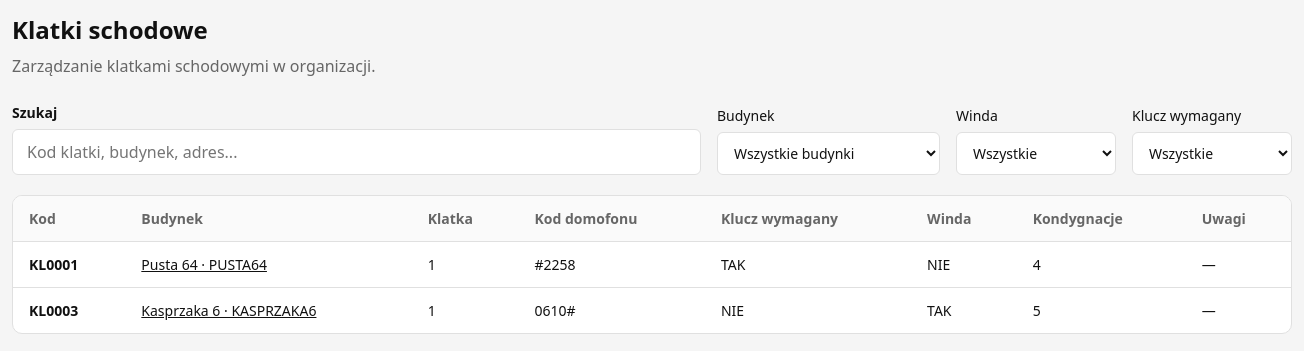
StaircasesPage › filters by building
expect the text "KL0001" is shown: met, box [13,242,125,288]
Select "Pusta 64 (PUSTA64)" in the dropdown named "Filtr budynku": (828, 154) [717,132,940,175]
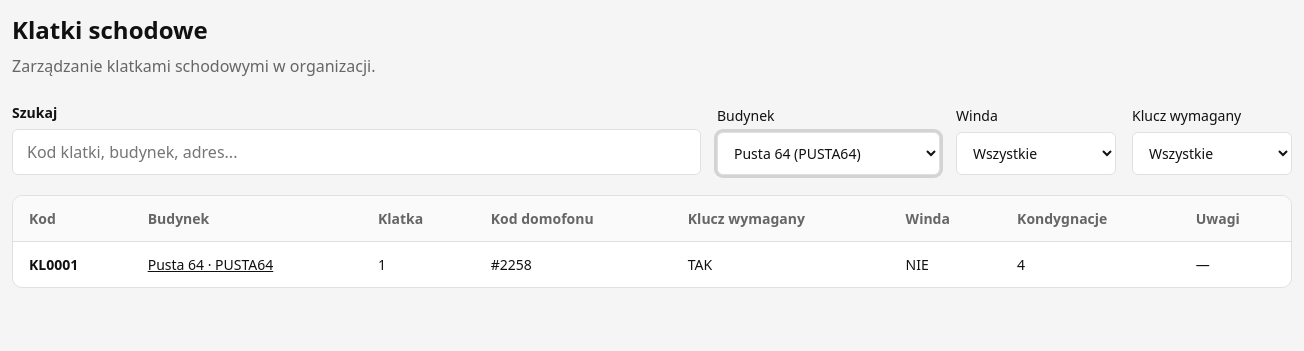
expect the text "KL0001" is shown: met, box [13,242,132,287]
expect the text "KL0003" is gone: met
